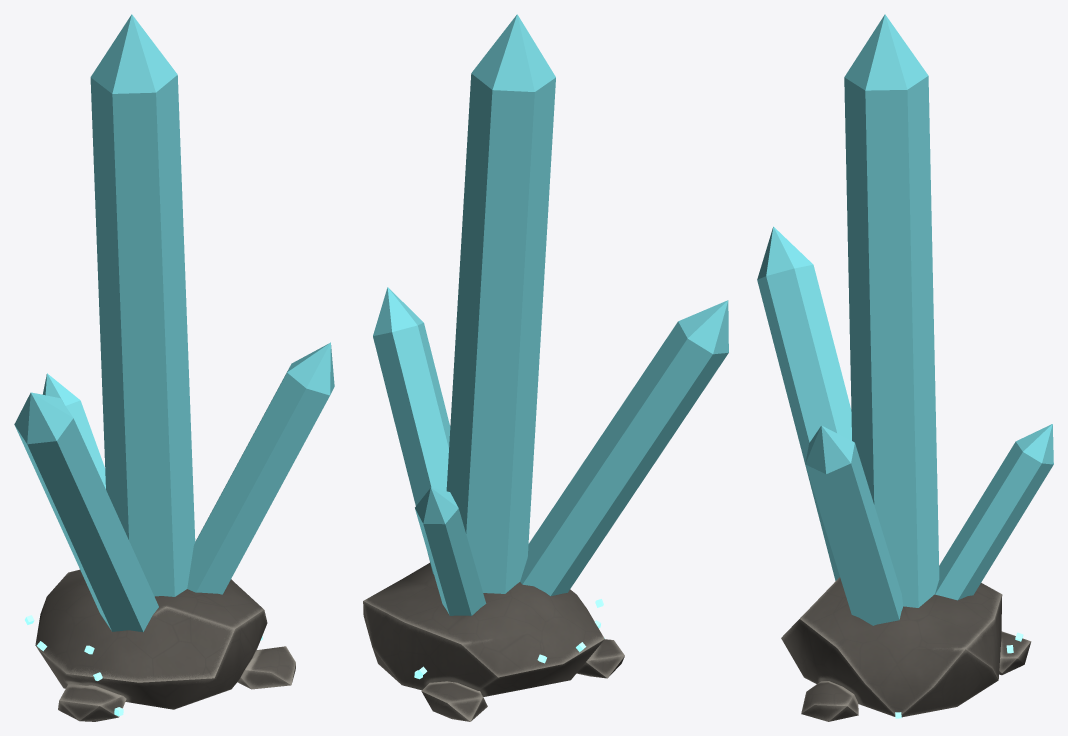
File: cristal_decorativo.fbx
The picture shows the model from 3 angles, left to right: view 1: azimuth 30°, elevation 25°; view 2: azimuth 150°, elevation 25°; view 3: azimuth 270°, elevation 25°; orthographic projection. The views are drawn at different scales.
Visible parts, largest first — view 1: cristal_decorativo_cristal, cristal_decorativo; view 2: cristal_decorativo_cristal, cristal_decorativo; view 3: cristal_decorativo_cristal, cristal_decorativo.
Boxes of the visible parts, <box> form: cristal_decorativo_cristal: <box>14,14,334,632</box>; cristal_decorativo: <box>35,569,295,721</box>; cristal_decorativo_cristal: <box>373,14,728,615</box>; cristal_decorativo: <box>363,563,624,721</box>; cristal_decorativo_cristal: <box>757,14,1053,625</box>; cristal_decorativo: <box>781,577,1031,721</box>.
Size of the model in its own units: 1.5 by 2.93 by 1.2.
3 materials, 1 textured.
